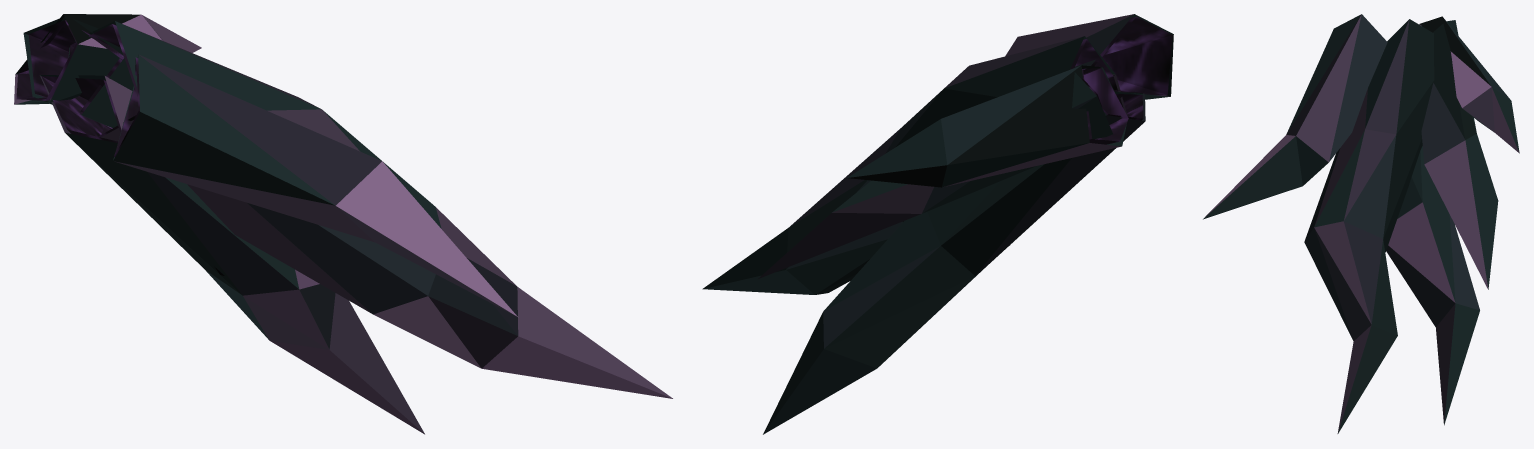
The picture shows the model from 3 angles, left to right: view 1: azimuth 30°, elevation 25°; view 2: azimuth 150°, elevation 25°; view 3: azimuth 270°, elevation 25°; orthographic projection. The views are drawn at different scales.
Visible parts, largest first — view 1: B_0040_2a_0, B_0040_2a_1; view 2: B_0040_2a_0, B_0040_2a_1; view 3: B_0040_2a_0.
Part boxes in pixels (x1,y1,x2,y2): B_0040_2a_0: (14,14,672,434); B_0040_2a_1: (16,19,139,157); B_0040_2a_0: (702,14,1173,434); B_0040_2a_1: (1070,16,1172,144); B_0040_2a_0: (1203,14,1519,433).
Size of the model in its own units: 2.15 by 1.86 by 1.74.
2 materials, 2 textured.
